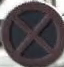No Stopping: (2, 3, 61, 63)
